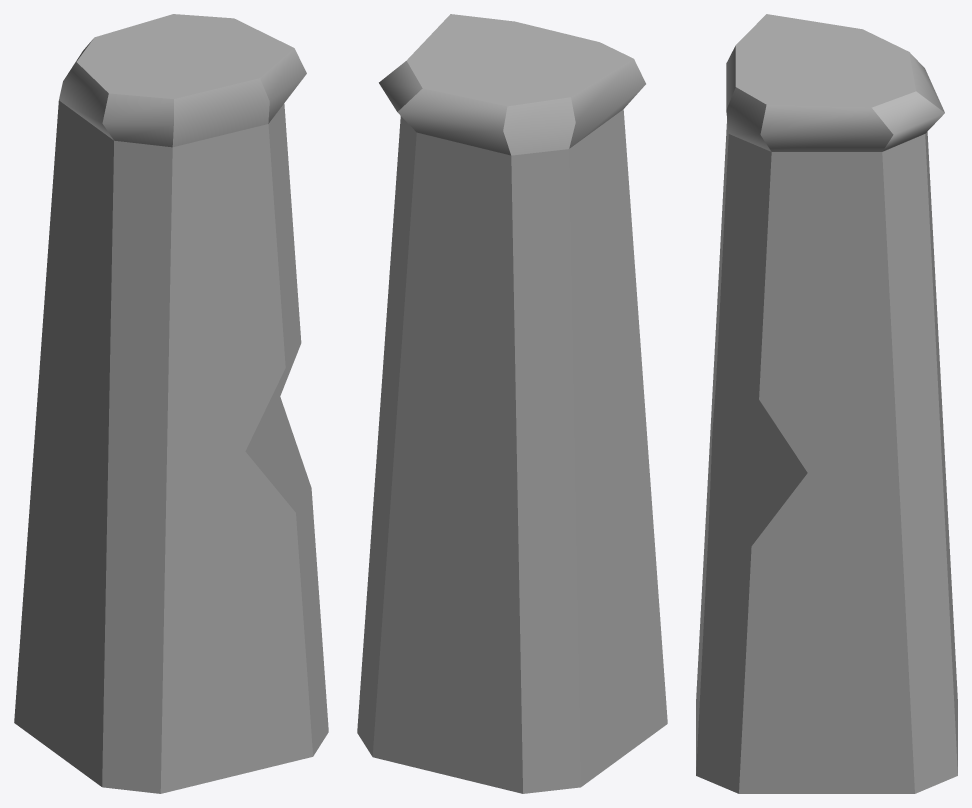
Rendered from Ground Stone 8.fbx.
3 views of the same model, side by side, from view 1: azimuth 30°, elevation 25°; view 2: azimuth 150°, elevation 25°; view 3: azimuth 270°, elevation 25° (orthographic).
Visible parts, largest first — view 1: Ground_Stone_8; view 2: Ground_Stone_8; view 3: Ground_Stone_8.
Part boxes in pixels (x1,y1,x2,y2): Ground_Stone_8: (14, 14, 328, 793); Ground_Stone_8: (357, 14, 667, 793); Ground_Stone_8: (696, 14, 957, 793).
Bounding box in the file's own units: 0.65 × 1.86 × 0.65.
